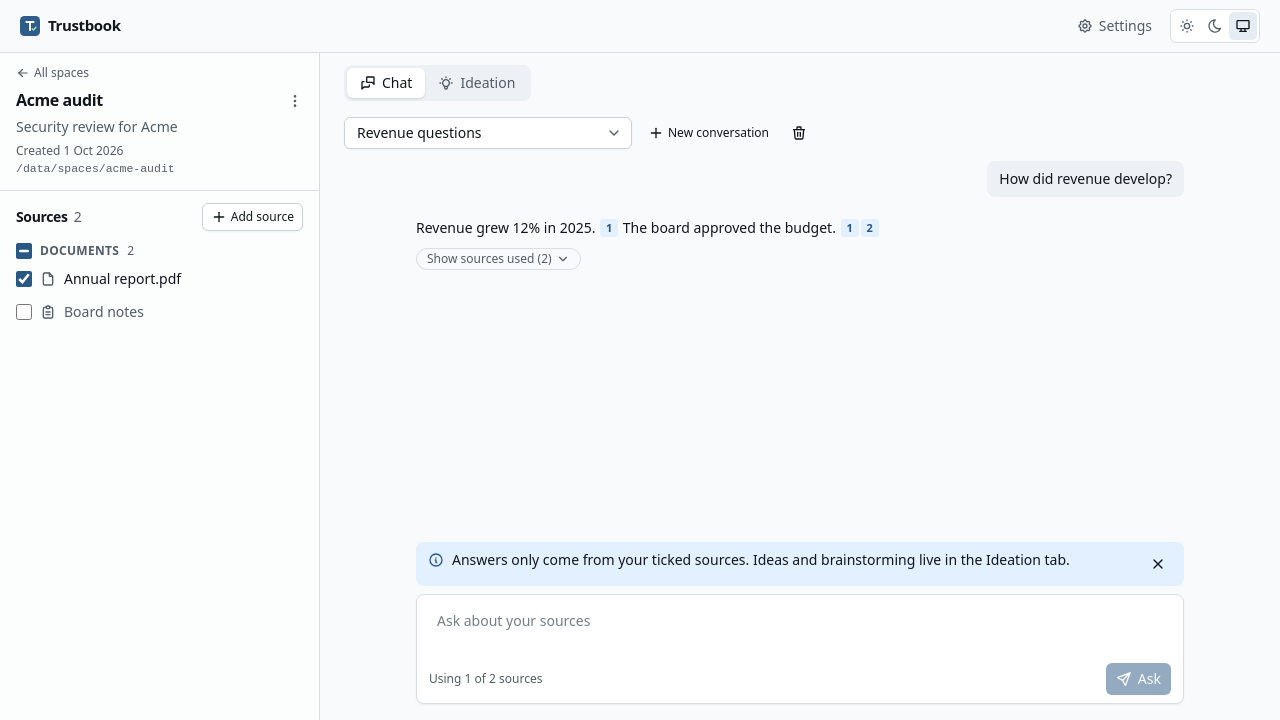
Test: chat › opens the source viewer at the highlighted passage when a citation is clicked
Step 1. Click the button named "Citation 1: Annual report.pdf, Pages 3–4" → [609, 228], box x1=600 y1=219 x2=618 y2=237
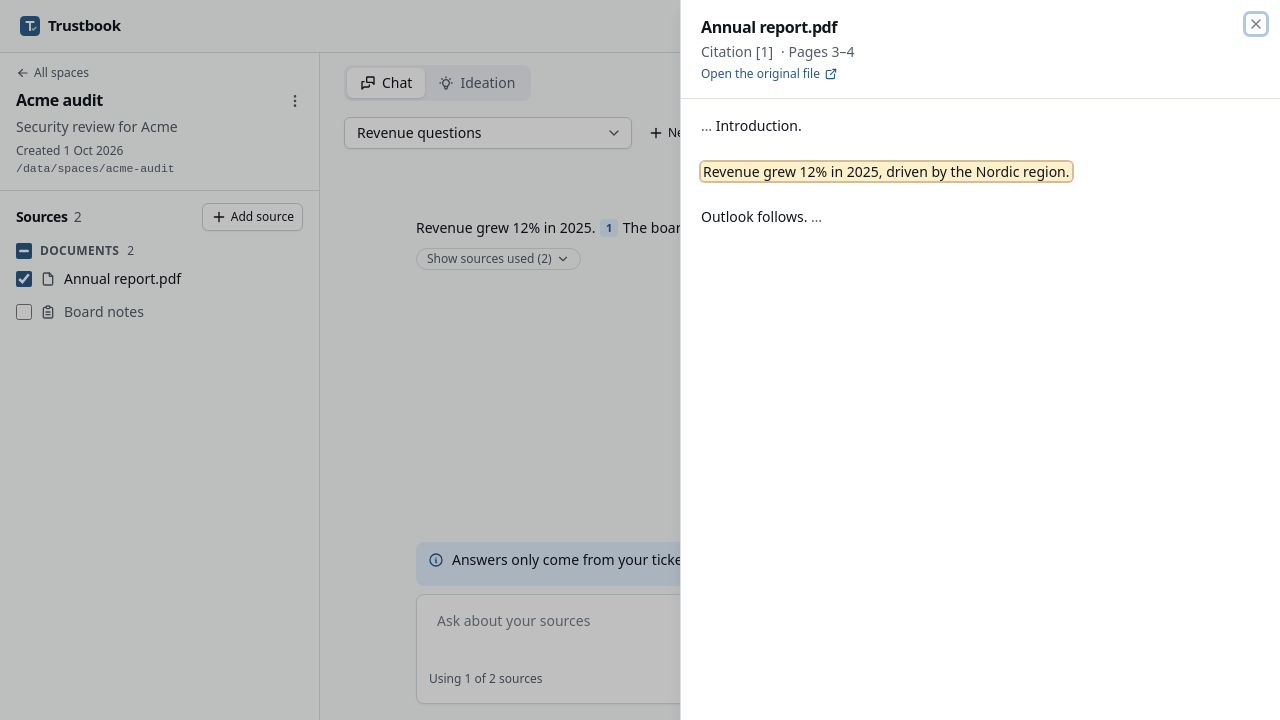
Check: the text "Citation [1]" is shown, box x1=701 y1=42 x2=773 y2=62
Check: the text with test id "viewer-label" reads "· Pages 3–4", box x1=781 y1=42 x2=855 y2=62
Check: the text with test id "cited-passage" reads "Revenue grew 12% in 2025, driven by the Nordic region.", box x1=703 y1=162 x2=1070 y2=180
